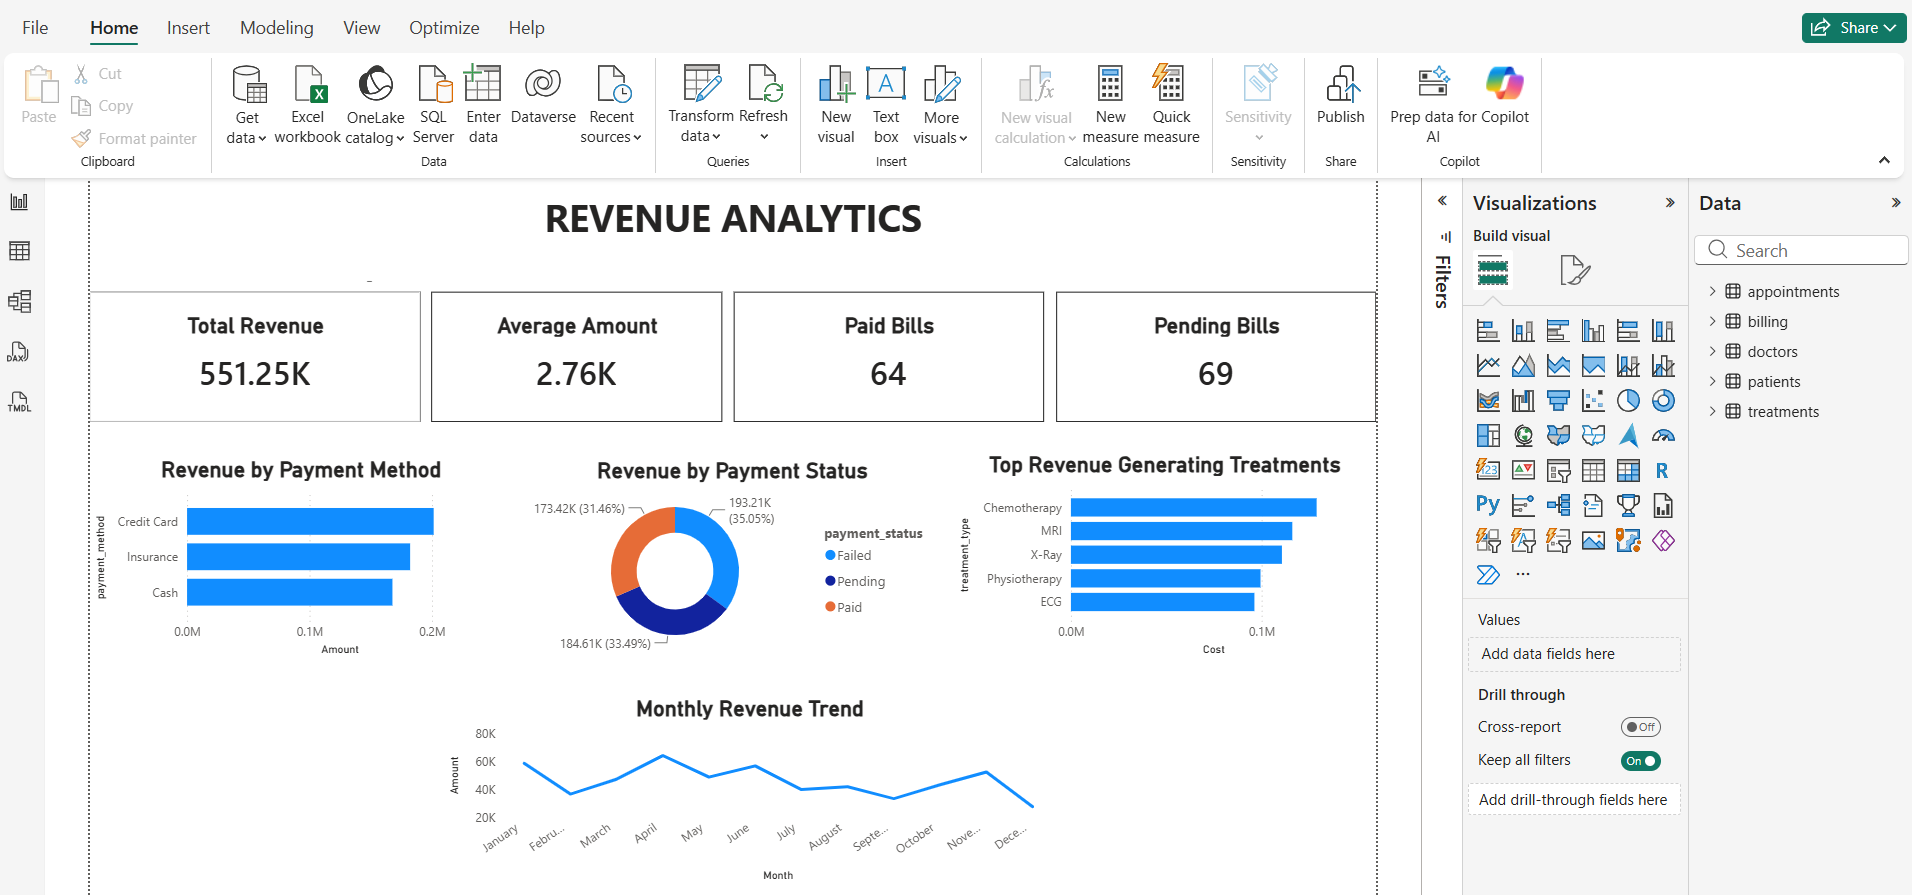

This screenshot's page, from the dashboard's own definition file:
{"tool":"powerbi","page":{"name":"RA","canvas":[1280,720],"ordinal":3},"visuals":[{"type":"cardVisual","title":"Total Revenue","fields":{"Data":["appointments.TOTAL REVENUE"]},"box":[0,113.2,328.4,129.4],"z":0},{"type":"cardVisual","title":"Average Amount","fields":{"Data":["Avg(billing.amount)"]},"box":[339.6,113.2,289.8,129.4],"z":1000},{"type":"cardVisual","title":"Paid Bills","fields":{"Data":["billing.Paid Bills"]},"box":[640.6,113.2,308.5,129.4],"z":2000},{"type":"cardVisual","title":"Pending Bills","fields":{"Data":["billing.Pending Bills"]},"box":[961.6,113.2,318.5,129.4],"z":3000},{"type":"barChart","title":"Revenue by Payment Method","fields":{"Category":["billing.payment_method"],"Y":["Sum(billing.amount)"]},"box":[0,257.5,420.5,237.6],"z":4000},{"type":"donutChart","title":"Revenue by Payment Status","fields":{"Category":["billing.payment_status"],"Y":["Sum(billing.amount)"]},"box":[429.2,258.7,420.5,236.4],"z":5000},{"type":"barChart","title":"Top Revenue Generating Treatments","fields":{"Category":["treatments.treatment_type"],"Y":["Sum(treatments.cost)"]},"box":[859.6,252.5,420.5,242.6],"z":6000},{"type":"lineChart","title":"Monthly Revenue Trend","fields":{"Category":["billing.bill_date.Variation.Date Hierarchy.Month"],"Y":["Sum(billing.amount)"]},"box":[352,495.1,609.5,225.2],"z":7000},{"type":"textbox","box":[0,8.7,1280,93.3],"z":8000}]}

Visuals, with their boxes on the page's 1280x720 design canvas (x1, y1, x2, y2). These are canvas units, not pixel positions in the 1912x895 screenshot, which may show the page scaled, cropped or inside an application window:
"Total Revenue" cardVisual: x1=0 y1=113 x2=328 y2=243
"Average Amount" cardVisual: x1=340 y1=113 x2=629 y2=243
"Paid Bills" cardVisual: x1=641 y1=113 x2=949 y2=243
"Pending Bills" cardVisual: x1=962 y1=113 x2=1280 y2=243
"Revenue by Payment Method" barChart: x1=0 y1=258 x2=420 y2=495
"Revenue by Payment Status" donutChart: x1=429 y1=259 x2=850 y2=495
"Top Revenue Generating Treatments" barChart: x1=860 y1=252 x2=1280 y2=495
"Monthly Revenue Trend" lineChart: x1=352 y1=495 x2=962 y2=720
textbox: x1=0 y1=9 x2=1280 y2=102
